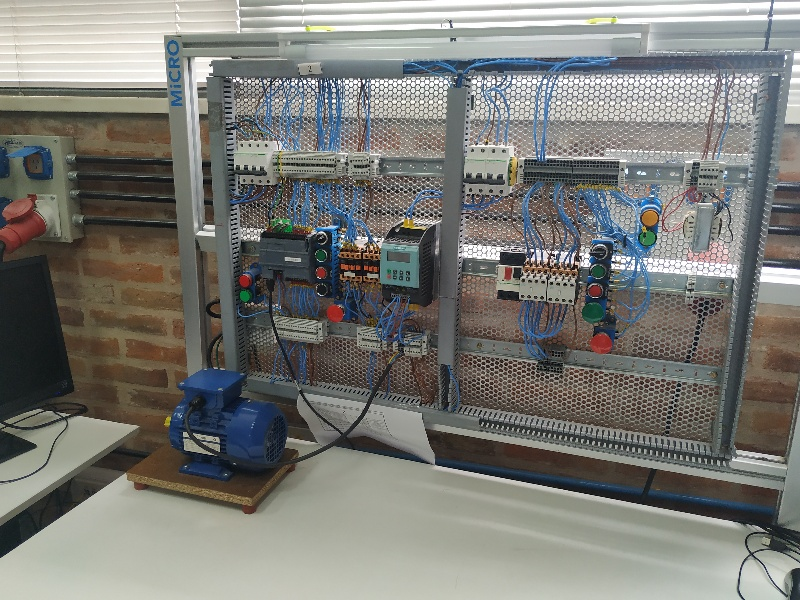Tablero 2: (220, 69, 748, 456)
